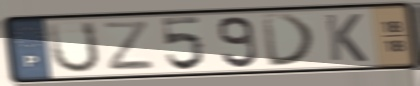5: (160, 15, 208, 73)
9: (217, 15, 260, 69)
D: (259, 12, 320, 69)
K: (322, 12, 370, 64)
U: (46, 19, 103, 75)
Z: (100, 19, 158, 72)
